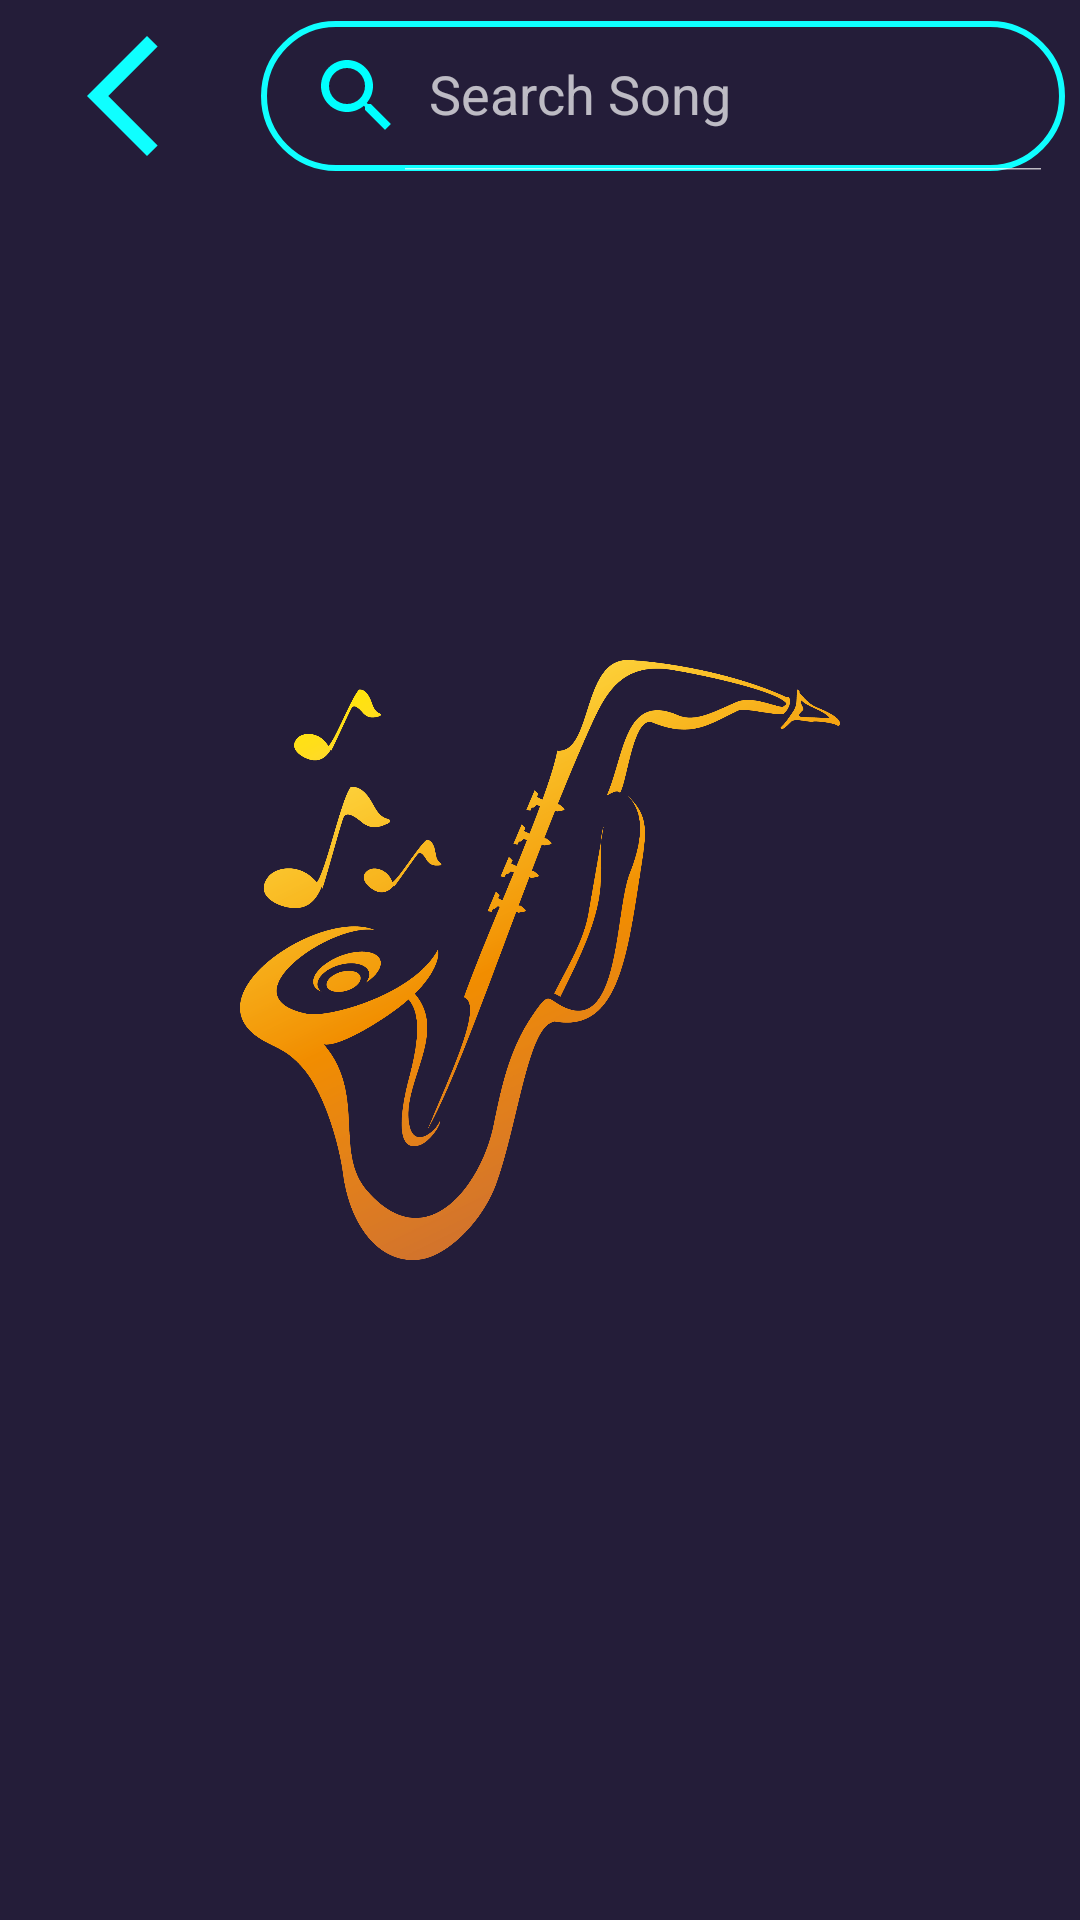

Point at icon controls on the screen. Image size 1080px×1920px, points as (x=x, y=y).
Back: (x=122, y=96)
